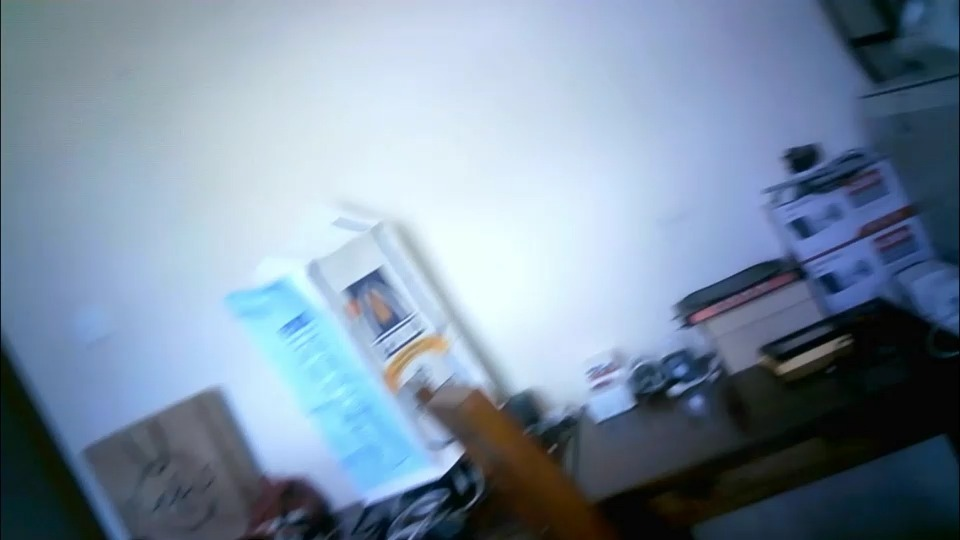wheat_flour_blue_label: (226, 206, 505, 501)
